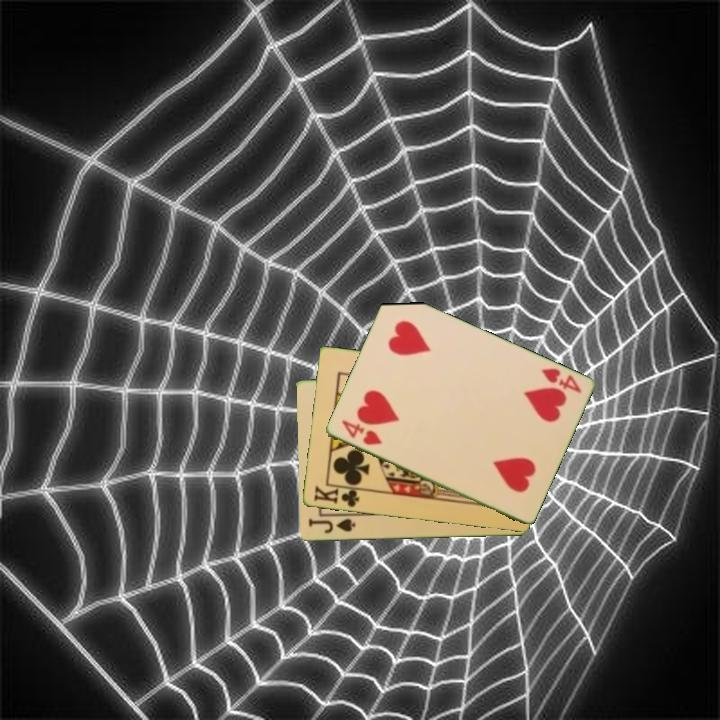4h: (338, 417, 384, 448), (538, 365, 584, 396)
Js: (304, 515, 358, 536)
Kc: (310, 482, 366, 510)
